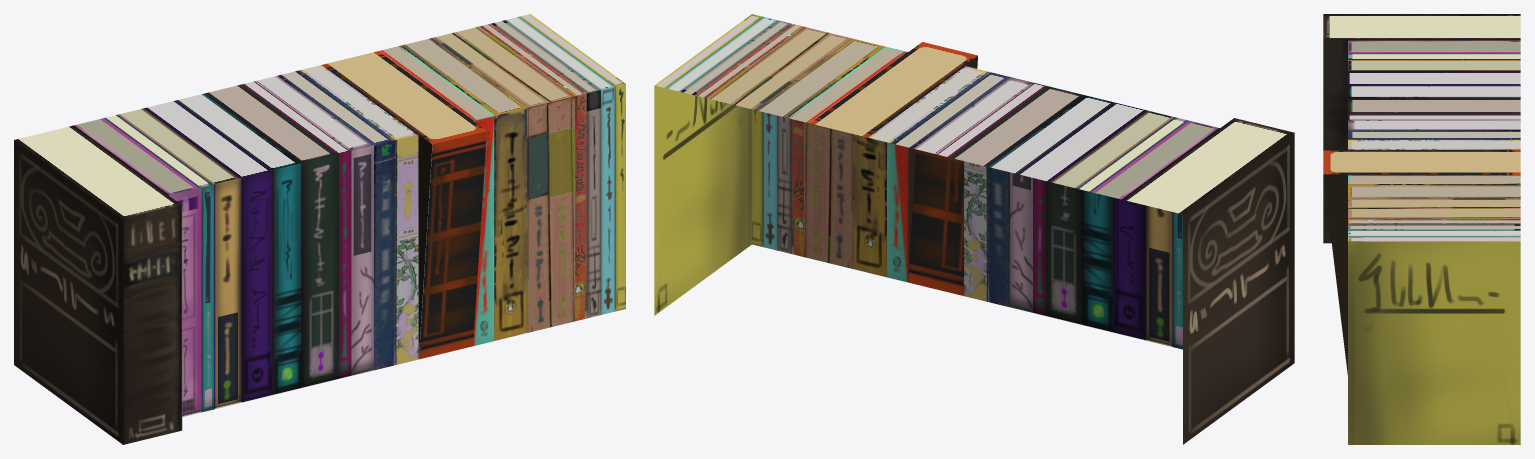
The model's file is bookpack2.fbx.
3 renders of one model, left to right at view 1: azimuth 30°, elevation 25°; view 2: azimuth 150°, elevation 25°; view 3: azimuth 270°, elevation 25°, orthographic. The views are drawn at different scales.
Visible parts, largest first — view 1: books1:pCube2; view 2: books1:pCube2; view 3: books1:pCube2.
Part boxes in pixels (box(x1,y1,x2,y2)): books1:pCube2: box(14, 14, 625, 444); books1:pCube2: box(654, 14, 1294, 444); books1:pCube2: box(1323, 14, 1520, 444).
Bounding box in the file's own units: 75.37 × 31.4 × 27.6.
1 material, 1 textured.
